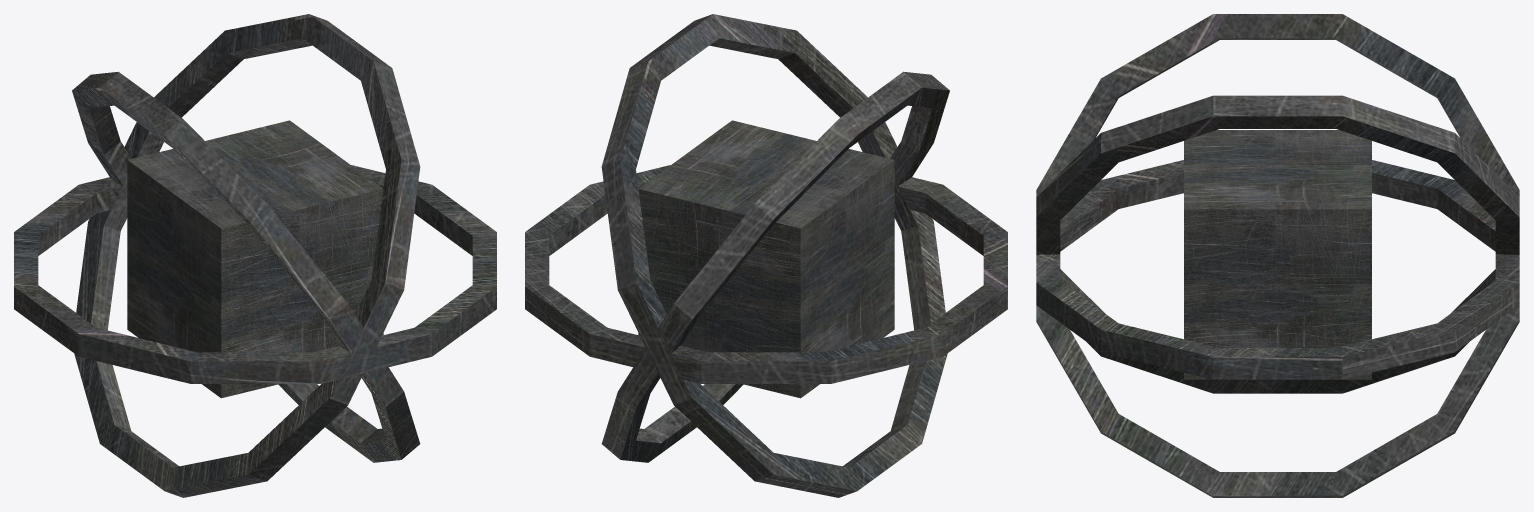
The model's file is thecube.obj.
3 renders of one model, left to right at view 1: azimuth 30°, elevation 25°; view 2: azimuth 150°, elevation 25°; view 3: azimuth 270°, elevation 25°, orthographic.
Size of the model in its own units: 0.483 by 0.4433 by 0.483.
1 material, 1 textured.
